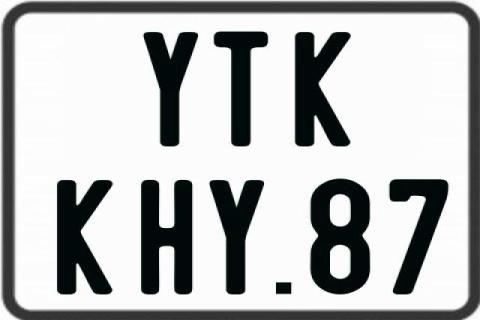0: (307, 177, 372, 293), (387, 177, 450, 296)
H: (141, 179, 196, 293)
K: (293, 32, 355, 151), (56, 180, 118, 296)
T: (213, 32, 268, 150)
Y: (209, 180, 268, 296), (141, 32, 197, 149)
